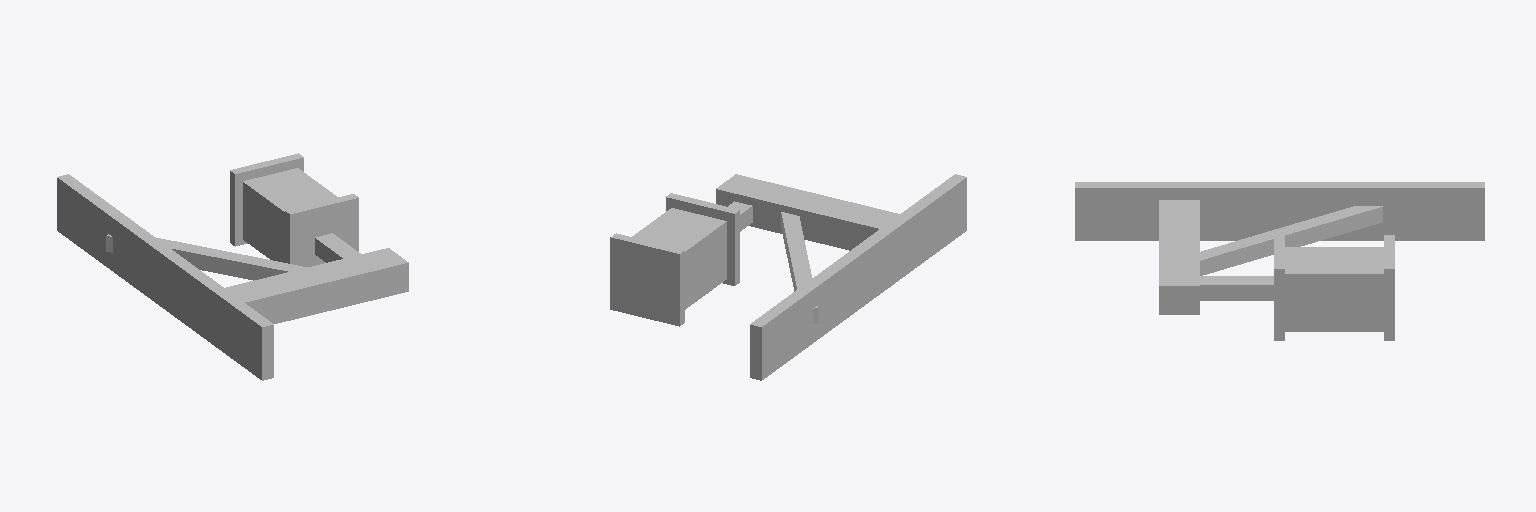
Rendered from lamp.obj.
3 renders of one model, left to right at view 1: azimuth 30°, elevation 25°; view 2: azimuth 150°, elevation 25°; view 3: azimuth 270°, elevation 25°, orthographic.
Visible parts, largest first — view 1: Box096; view 2: Box096; view 3: Box096.
Boxes of the visible parts, <box> form: Box096: <box>57,153,408,380</box>; Box096: <box>610,174,966,380</box>; Box096: <box>1075,182,1484,340</box>.
Size of the model in its own units: 0.2404 by 0.0831 by 0.4268.